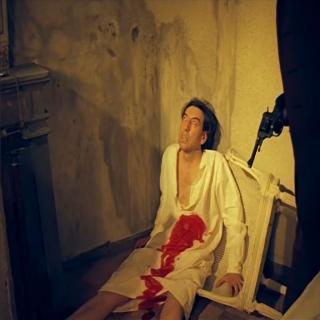gun: (241, 100, 289, 167)
